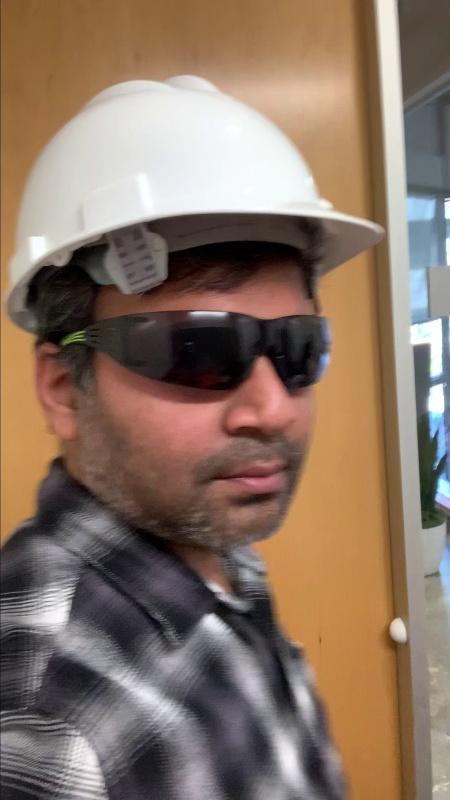glasses: (108, 309, 338, 389)
helmet: (27, 74, 366, 245)
